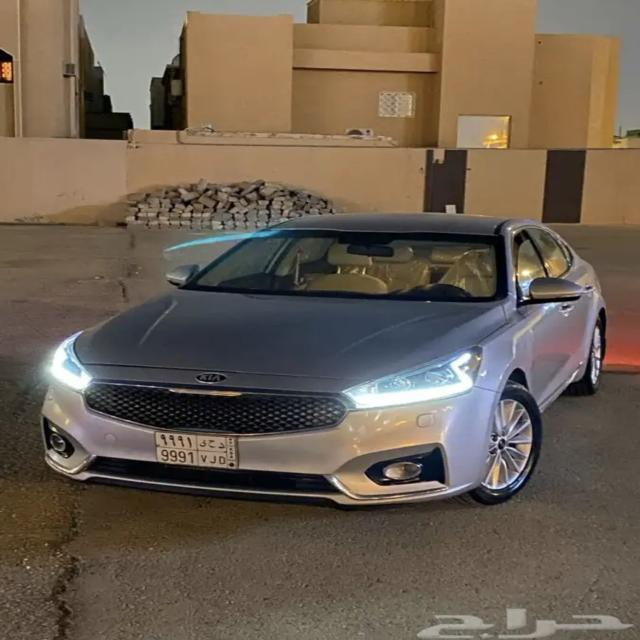license_plate: (153, 434, 238, 472)
